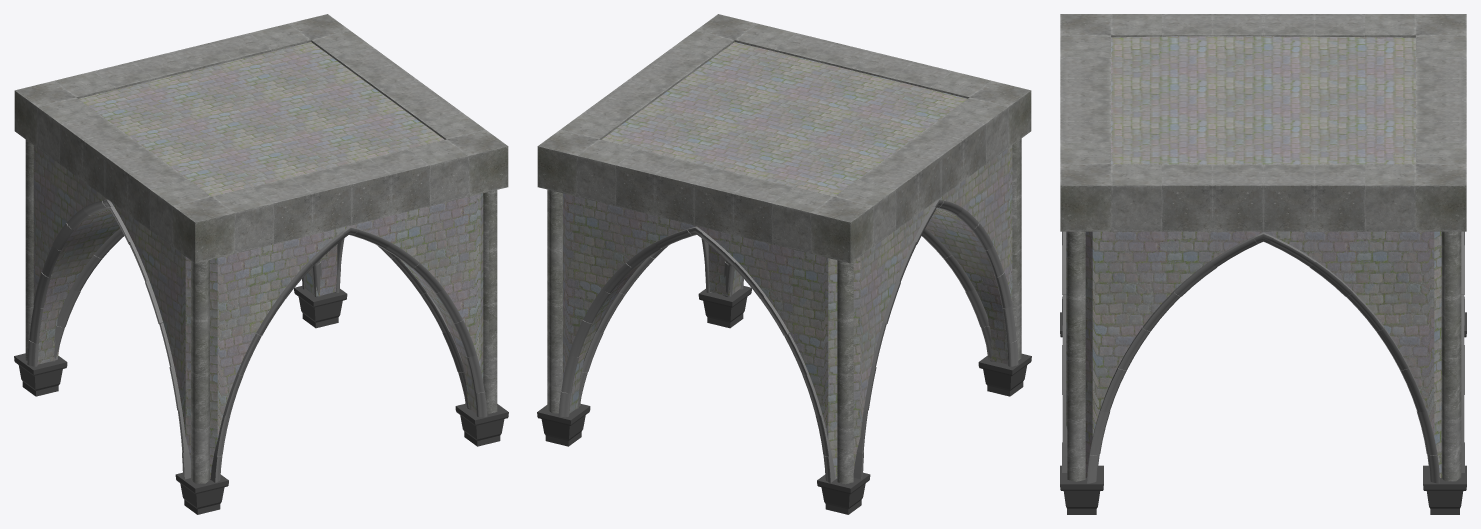
File: SM_vault_01.fbx
3 views of the same model, side by side, from view 1: azimuth 30°, elevation 25°; view 2: azimuth 150°, elevation 25°; view 3: azimuth 270°, elevation 25° (orthographic). The views are drawn at different scales.
Visible parts, largest first — view 1: DarkFantasyObject35; view 2: DarkFantasyObject35; view 3: DarkFantasyObject35.
Part boxes in pixels (left/top/right/bottom): DarkFantasyObject35: left=14, top=14, right=508, bottom=514; DarkFantasyObject35: left=537, top=14, right=1031, bottom=514; DarkFantasyObject35: left=1060, top=14, right=1466, bottom=514.
Size of the model in its own units: 428 by 386 by 428.
